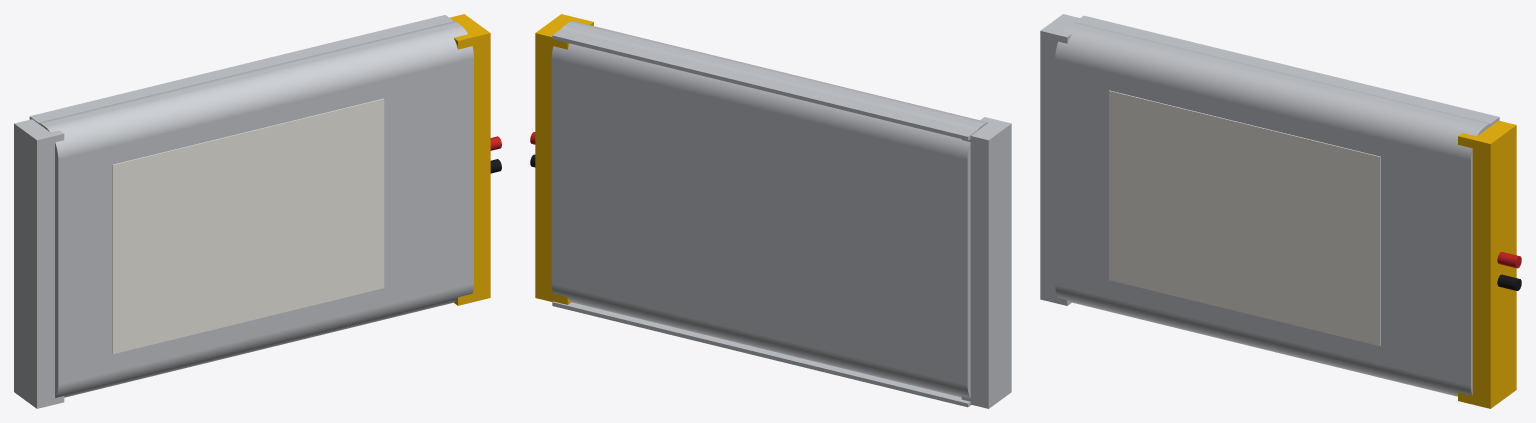
The model's file is battery.glb.
3 views of the same model, side by side, from view 1: azimuth 30°, elevation 25°; view 2: azimuth 150°, elevation 25°; view 3: azimuth 330°, elevation 25° (orthographic).
Visible parts, largest first — view 1: battery; view 2: battery; view 3: battery.
Boxes of the visible parts, x1,y1,x2,y2 form: battery: (14, 14, 501, 408); battery: (530, 14, 1011, 408); battery: (1040, 14, 1521, 408).
Size of the model in its own units: 52 by 28.8 by 5.7.
